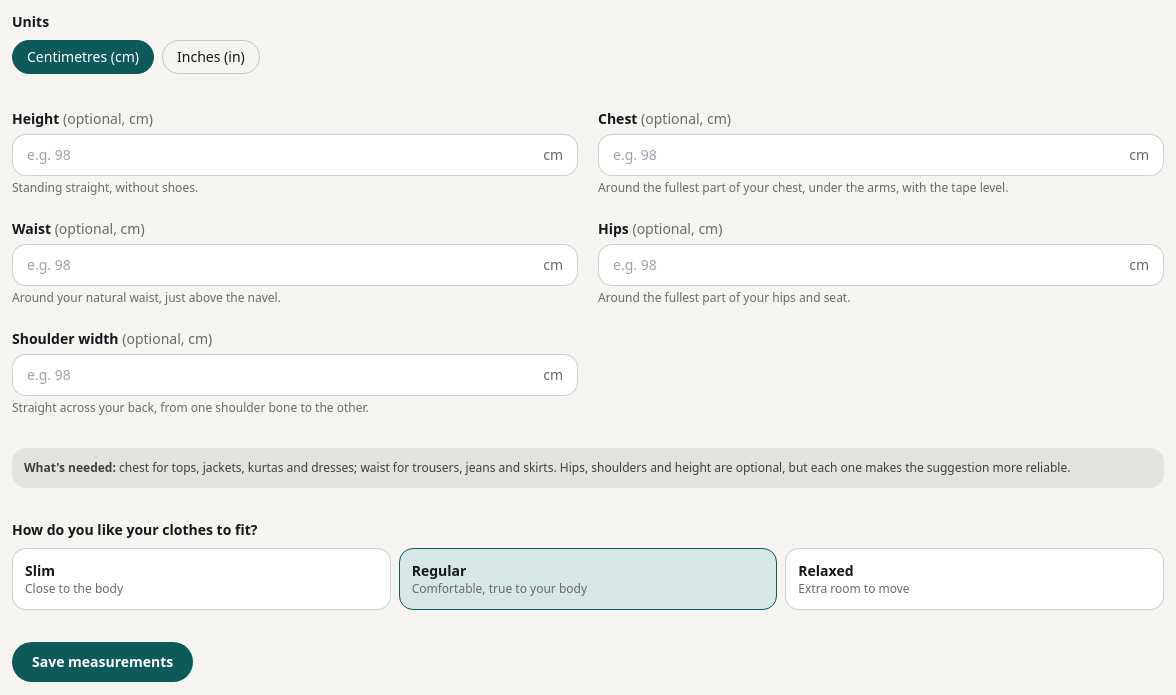
Test case: measurement profile form › asks for at least one measurement
Click the button "Save measurements" at coordinates (103, 662), box [12,642,193,682]
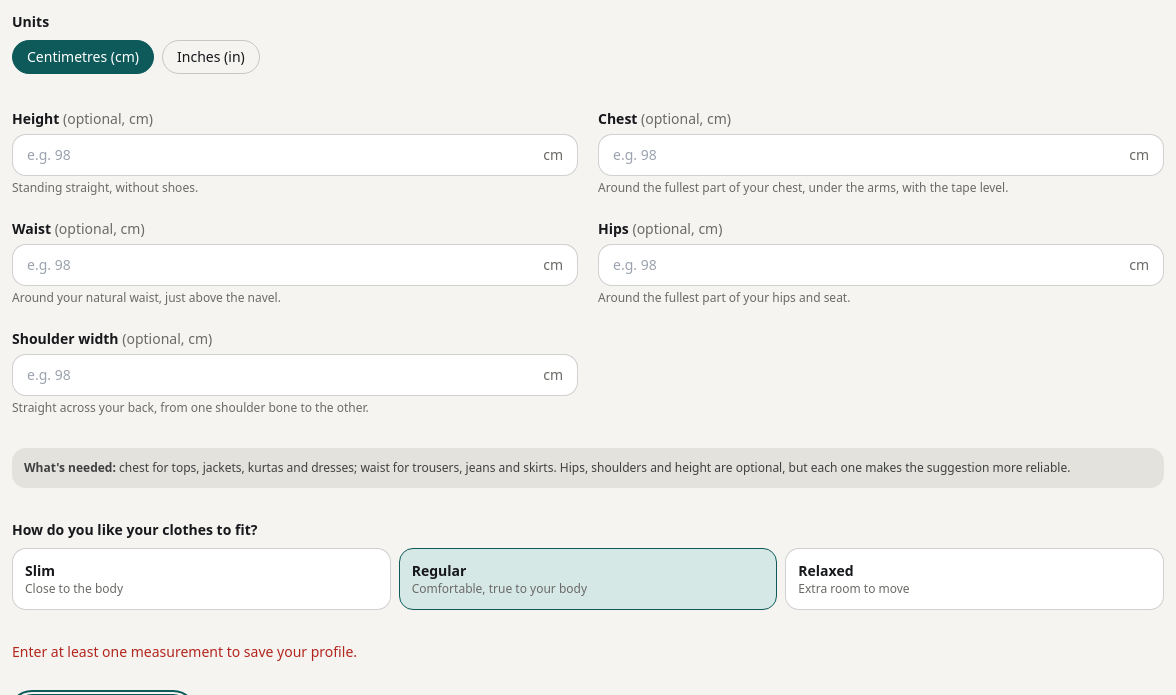
Expected: the message shows "at least one measurement", [12,642,357,661]
